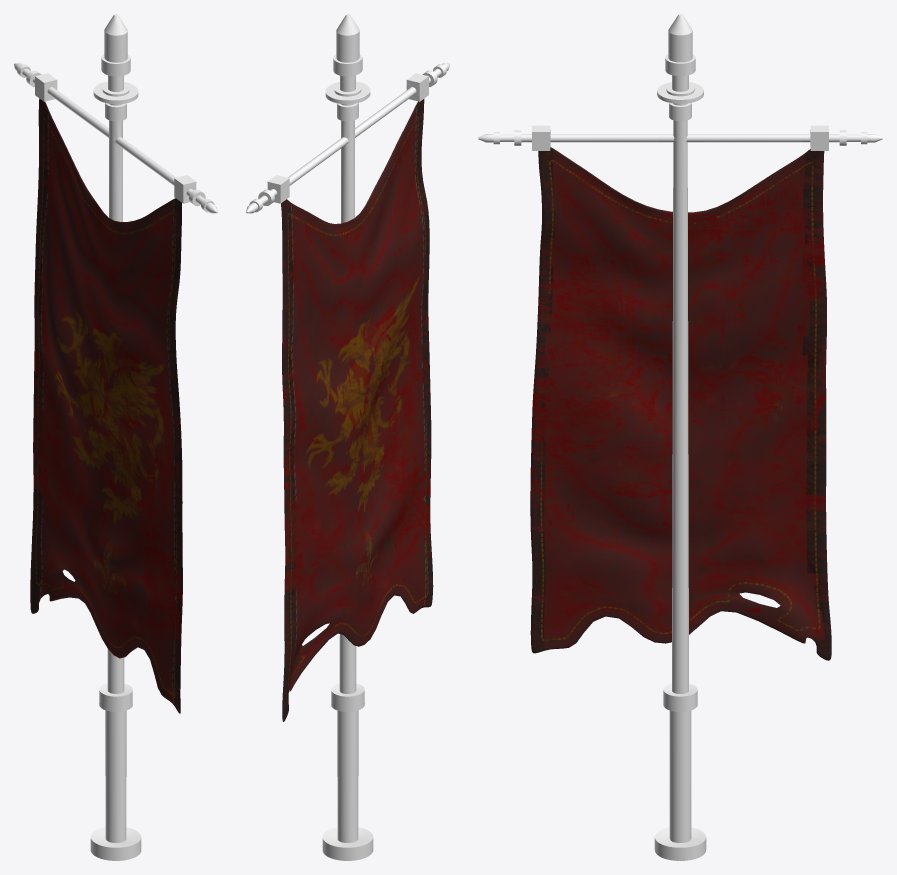
File: flag_2.glb
The picture shows the model from 3 angles, left to right: view 1: azimuth 30°, elevation 25°; view 2: azimuth 150°, elevation 25°; view 3: azimuth 270°, elevation 25°; orthographic projection.
Parts seen in each view (by area): view 1: Plane.004, Cylinder.004; view 2: Plane.004, Cylinder.004; view 3: Plane.004, Cylinder.004.
Part boxes in pixels (left/top/right/bottom): Plane.004: left=30, top=98, right=182, bottom=713; Cylinder.004: left=14, top=14, right=217, bottom=860; Plane.004: left=281, top=99, right=433, bottom=721; Cylinder.004: left=246, top=14, right=449, bottom=860; Plane.004: left=530, top=147, right=831, bottom=660; Cylinder.004: left=478, top=14, right=882, bottom=860.
Size of the model in its own units: 0.3664 by 6.7 by 2.94.
Materials: 2 (1 with a texture image).
